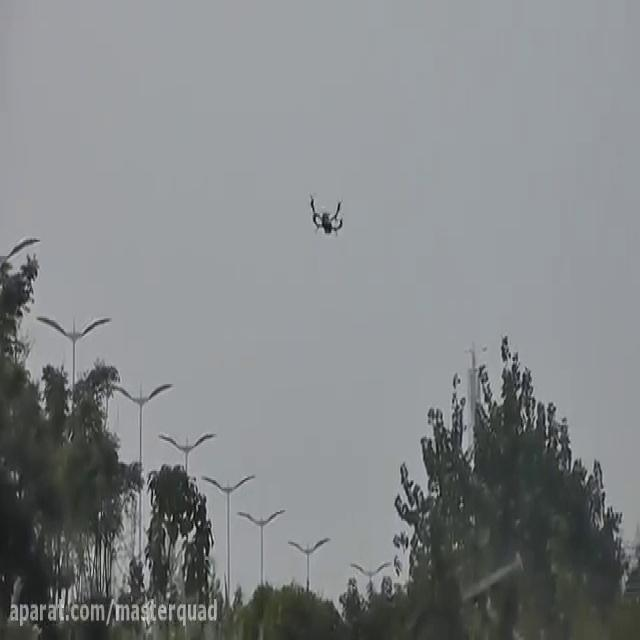drone: (305, 186, 348, 236)
